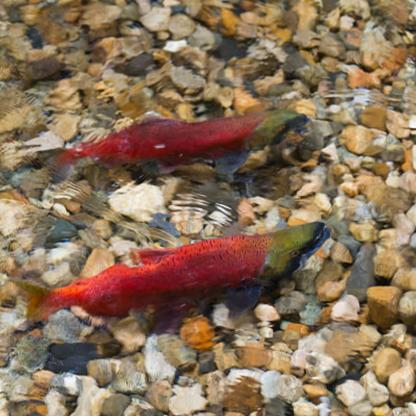sockeye: (18, 215, 333, 331), (35, 95, 311, 186)
